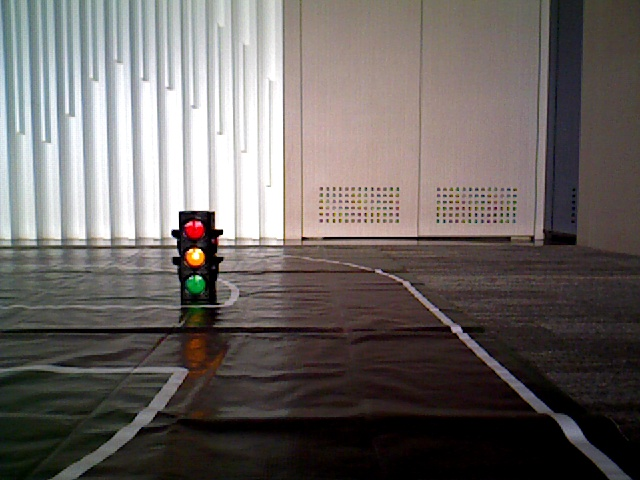yellow: (178, 220, 211, 300)
